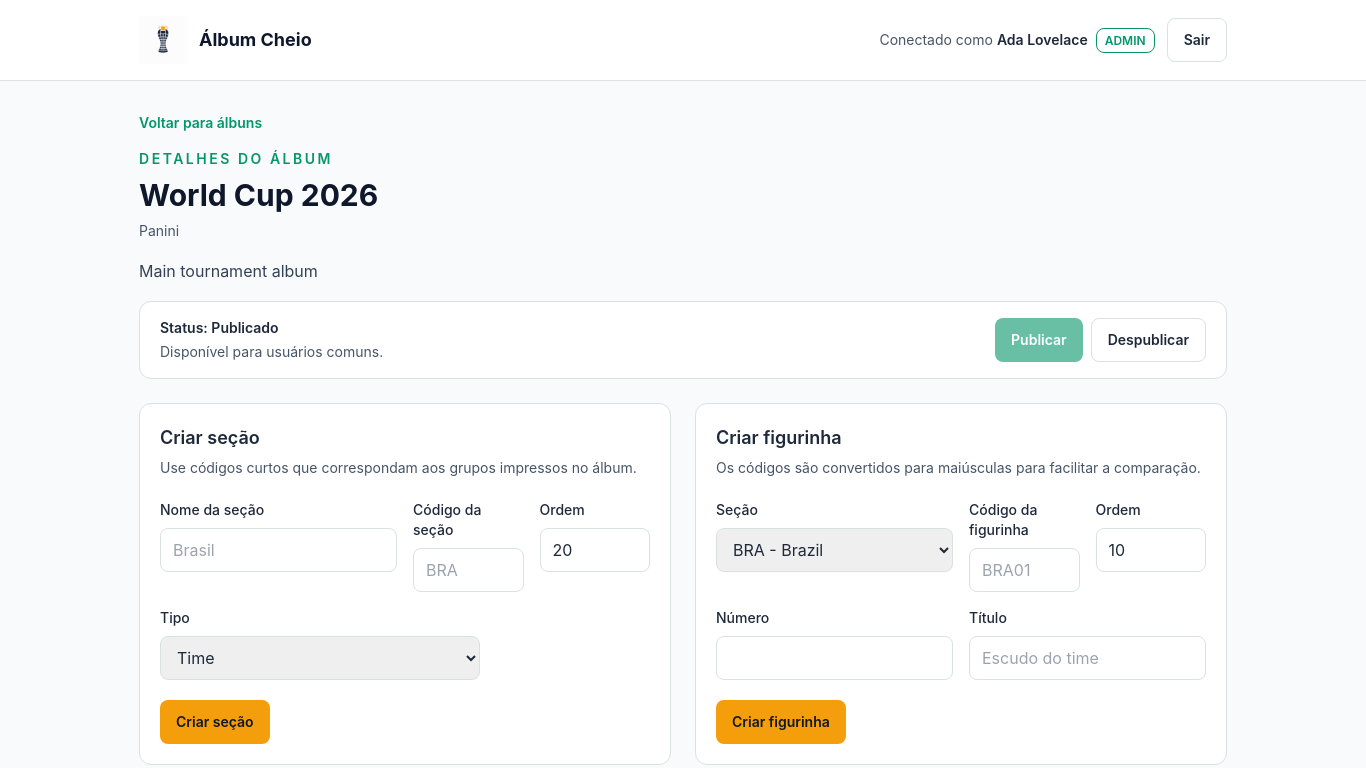
AlbumDetailPage › shows a specific duplicate sticker code message
The image size is (1366, 768).
Expected: the heading "World Cup 2026" is shown, x1=139 y1=177 x2=378 y2=213
Type "bra01" into the field labelled "Código da figurinha".
click(1024, 570); type("bra01")  # box x1=969 y1=548 x2=1080 y2=592
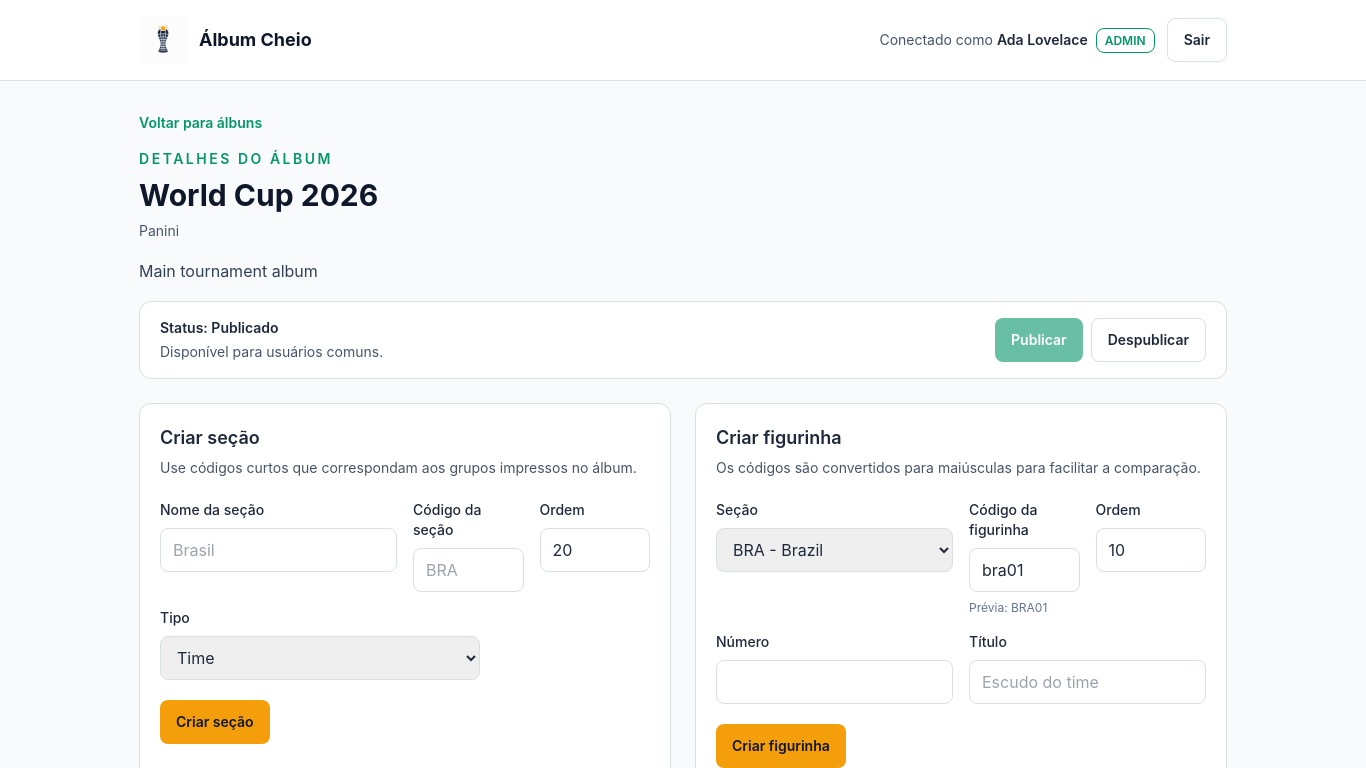
Click the button "Criar figurinha".
click(781, 746)  # box x1=716 y1=724 x2=846 y2=767
(page scrolled)
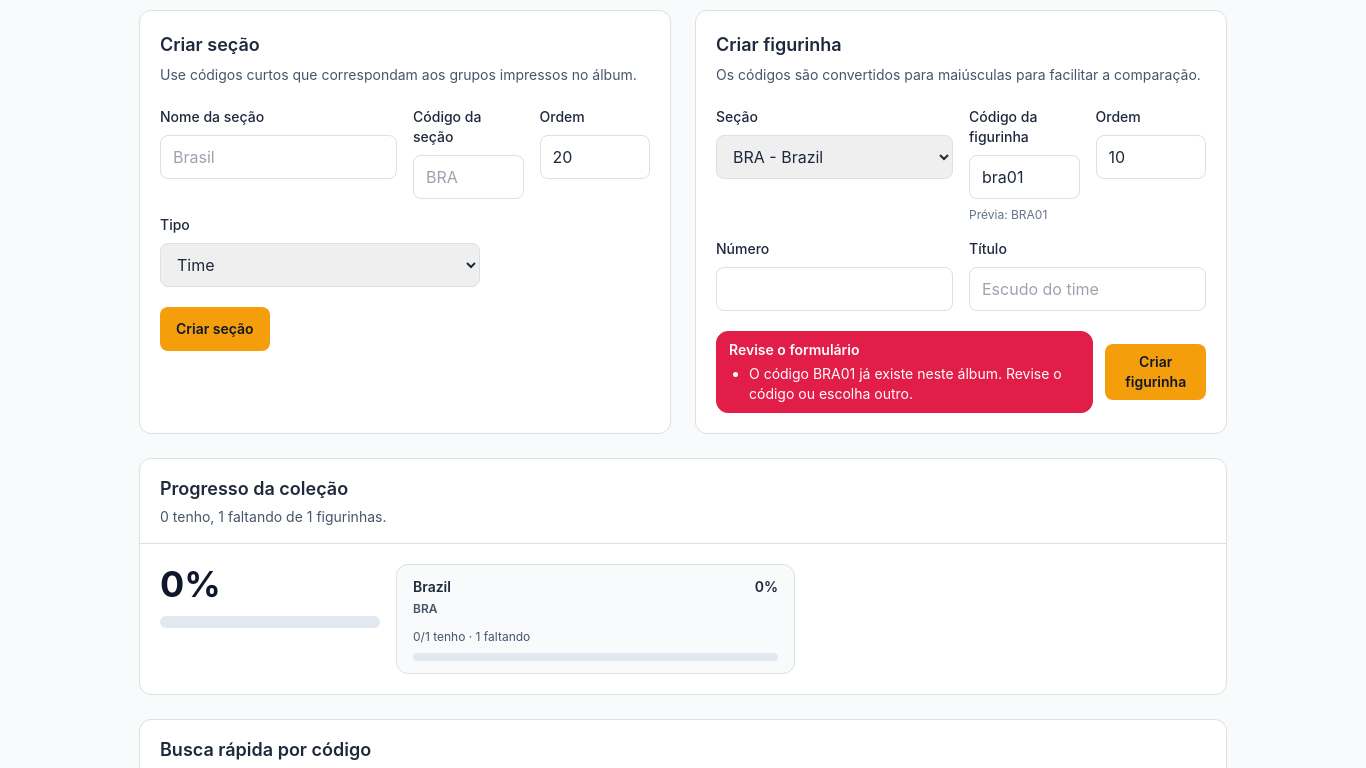
Now the list item "O código BRA01 já existe neste álbum. Revise o código ou escolha outro." is shown, box x1=749 y1=364 x2=1080 y2=404
